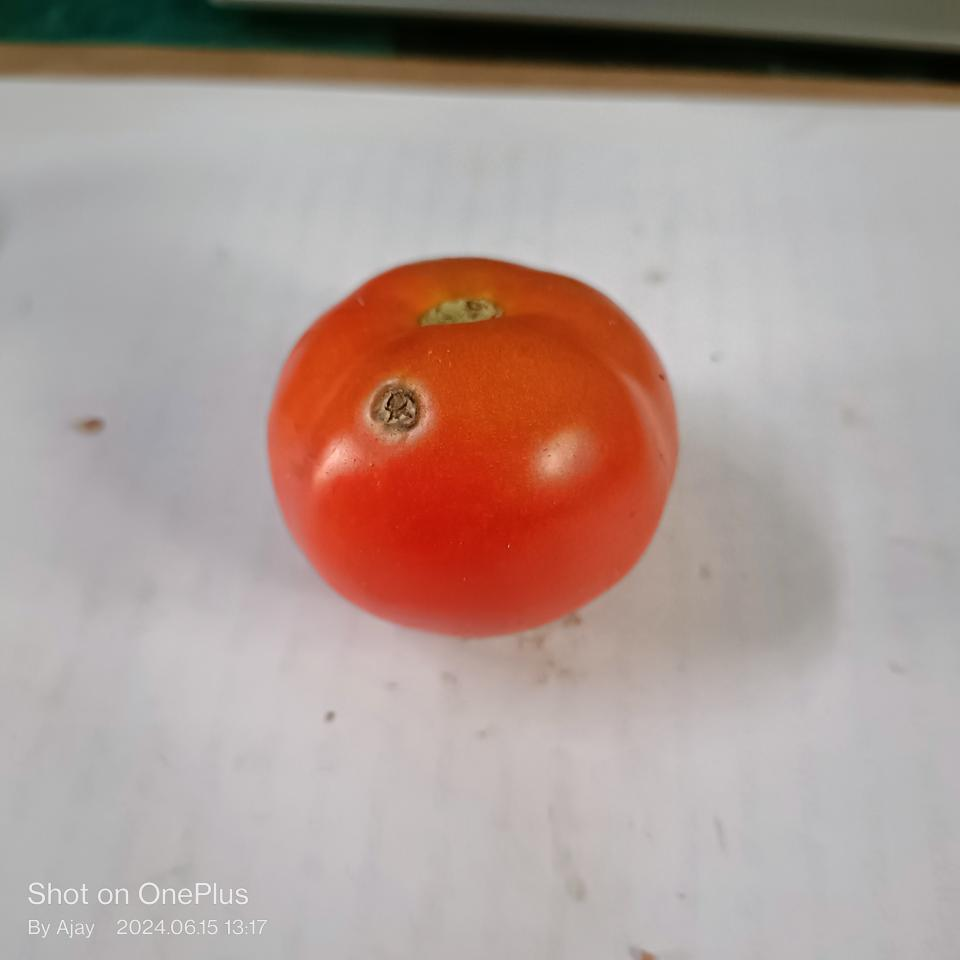Bacterial_Spot: (364, 380, 434, 437)
